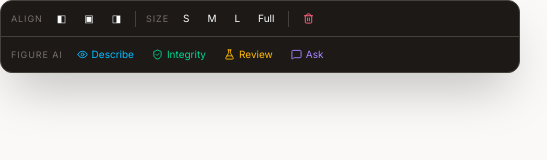
Scenario: FigureControls › Ask opens a question box; sending reports the question once and closes it; an empty question is never sent
Click the button with test id "control-ask": (307, 54) [283, 43, 332, 66]
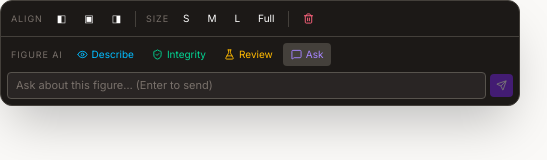
Check: the button with test id "control-ask-send" is disabled, box [490, 74, 513, 97]
Press Enter in the field with test id "control-ask-text", box [7, 72, 486, 98]
In the field with test id "control-ask-text": (246, 85) [7, 72, 486, 98], type "  what is the x axis?  "
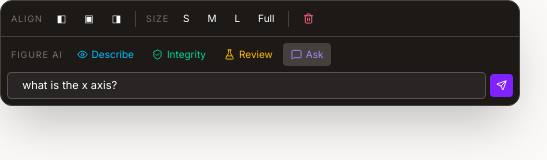
Click the button with test id "control-ask-send": (502, 85) [490, 74, 513, 97]
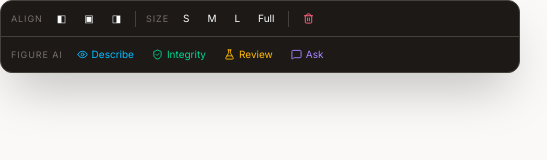
Check: the field with test id "control-ask-text" is gone
